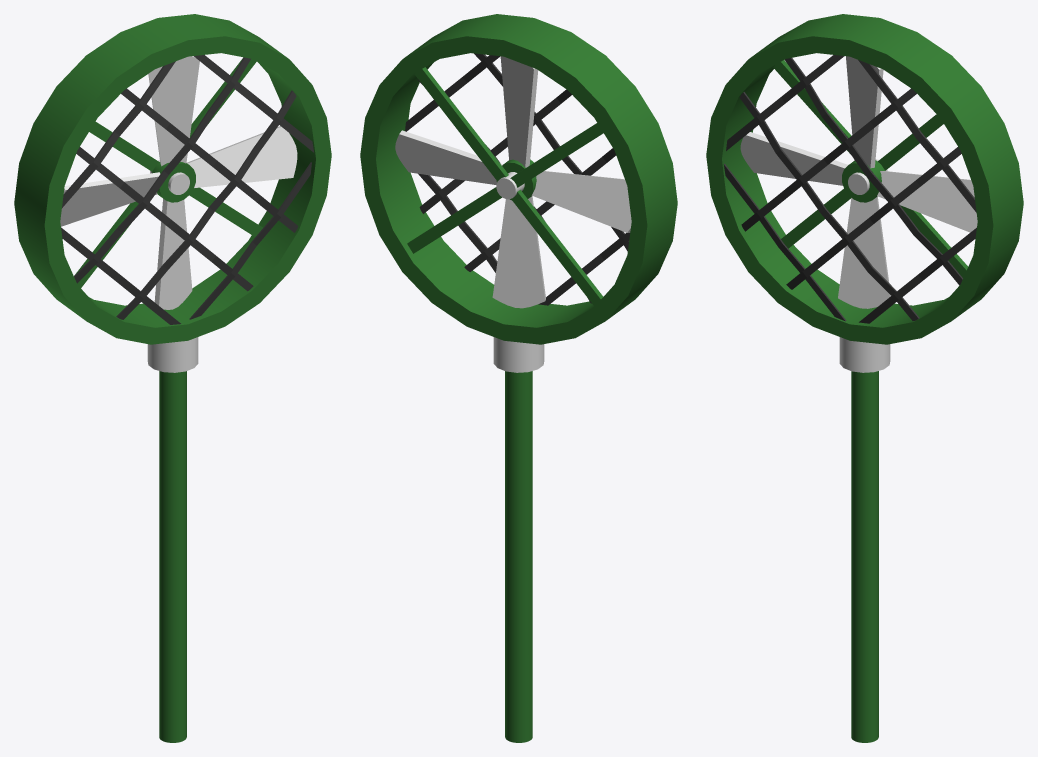
The model's file is Ventilator C.fbx.
3 views of the same model, side by side, from view 1: azimuth 30°, elevation 25°; view 2: azimuth 150°, elevation 25°; view 3: azimuth 330°, elevation 25° (orthographic).
Parts seen in each view (by area): view 1: Ventilator C, Ventilator C.001, Grid Ventilator C, Ventilator C Stand; view 2: Ventilator C, Ventilator C.001, Ventilator C Stand, Grid Ventilator C; view 3: Ventilator C, Ventilator C.001, Grid Ventilator C, Ventilator C Stand.
Part boxes in pixels (box(x1,y1,x2,y2)): Ventilator C: box(14, 14, 331, 372); Ventilator C.001: box(60, 56, 297, 309); Grid Ventilator C: box(61, 55, 313, 324); Ventilator C Stand: box(159, 371, 186, 742); Ventilator C: box(360, 14, 677, 372); Ventilator C.001: box(395, 56, 631, 308); Ventilator C Stand: box(505, 371, 532, 742); Grid Ventilator C: box(405, 53, 630, 305); Ventilator C: box(706, 14, 1023, 372); Ventilator C.001: box(740, 56, 977, 308); Grid Ventilator C: box(724, 55, 976, 323); Ventilator C Stand: box(851, 371, 878, 742).
Bounding box in the file's own units: 177 × 417 × 36.4.
